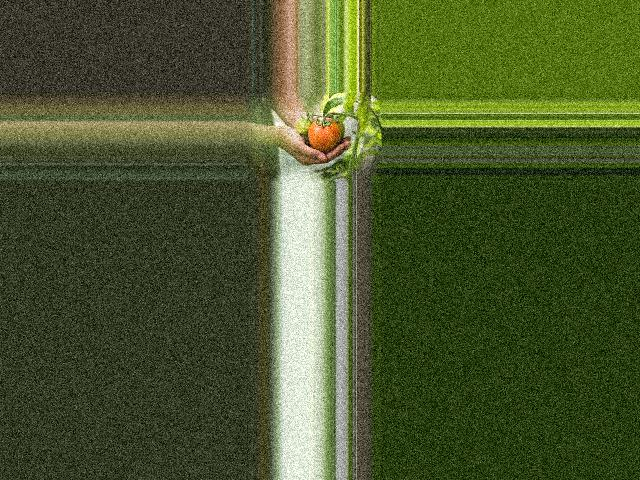tomato: (307, 118, 339, 151)
